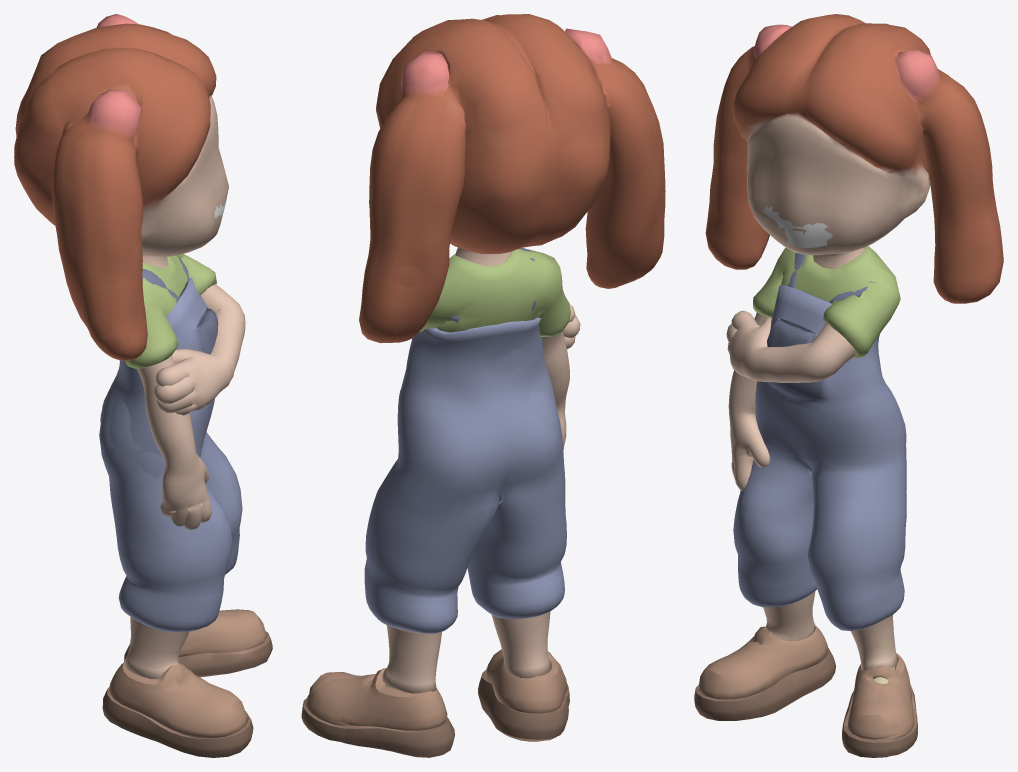
The picture shows the model from 3 angles, left to right: view 1: azimuth 30°, elevation 25°; view 2: azimuth 150°, elevation 25°; view 3: azimuth 270°, elevation 25°; orthographic projection. The views are drawn at different scales.
Visible parts, largest first — view 1: Arms.103; view 2: Arms.103; view 3: Arms.103.
Part boxes in pixels (box(x1,y1,x2,y2)): Arms.103: box(14, 14, 272, 757); Arms.103: box(301, 14, 665, 757); Arms.103: box(694, 14, 1003, 757).
Bounding box in the file's own units: 66.82 × 163 × 68.43.
